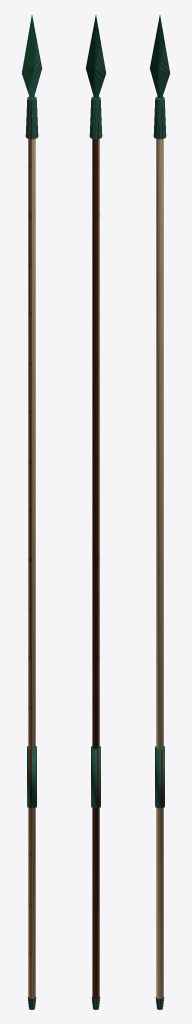
3 renders of one model, left to right at view 1: azimuth 30°, elevation 25°; view 2: azimuth 150°, elevation 25°; view 3: azimuth 330°, elevation 25°, orthographic.
Visible parts, largest first — view 1: tuareg_long_spear_refined; view 2: tuareg_long_spear_refined; view 3: tuareg_long_spear_refined.
Part boxes in pixels (left/top/right/bottom): tuareg_long_spear_refined: left=22, top=15, right=42, bottom=1009; tuareg_long_spear_refined: left=85, top=15, right=105, bottom=1009; tuareg_long_spear_refined: left=149, top=15, right=169, bottom=1009.
Bounding box in the file's own units: 9.4 × 438 × 5.
